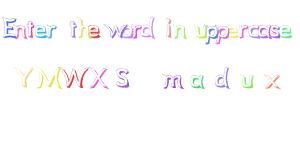E: (1, 14, 18, 40)
M: (35, 65, 62, 89)
S: (114, 67, 131, 89)
W: (60, 65, 88, 89)
X: (88, 64, 110, 89)
Y: (12, 64, 33, 88)
a: (189, 72, 207, 90), (258, 23, 272, 42)
c: (248, 23, 260, 41)
d: (215, 66, 232, 89), (140, 16, 157, 38)
e: (278, 22, 293, 40), (87, 23, 102, 40), (34, 23, 47, 40), (226, 23, 239, 39)
h: (76, 14, 91, 41)
i: (164, 16, 174, 39)
m: (161, 71, 185, 90)
n: (13, 23, 28, 41), (173, 24, 188, 39)
o: (119, 24, 133, 41)
p: (215, 24, 230, 46), (205, 24, 219, 47)
r: (46, 22, 59, 40), (131, 22, 142, 40), (238, 23, 248, 40)
s: (268, 23, 282, 41)
t: (26, 16, 36, 39), (67, 20, 78, 39)
u: (239, 73, 255, 90), (193, 23, 208, 40)
w: (103, 23, 125, 40)
x: (263, 72, 281, 90)
